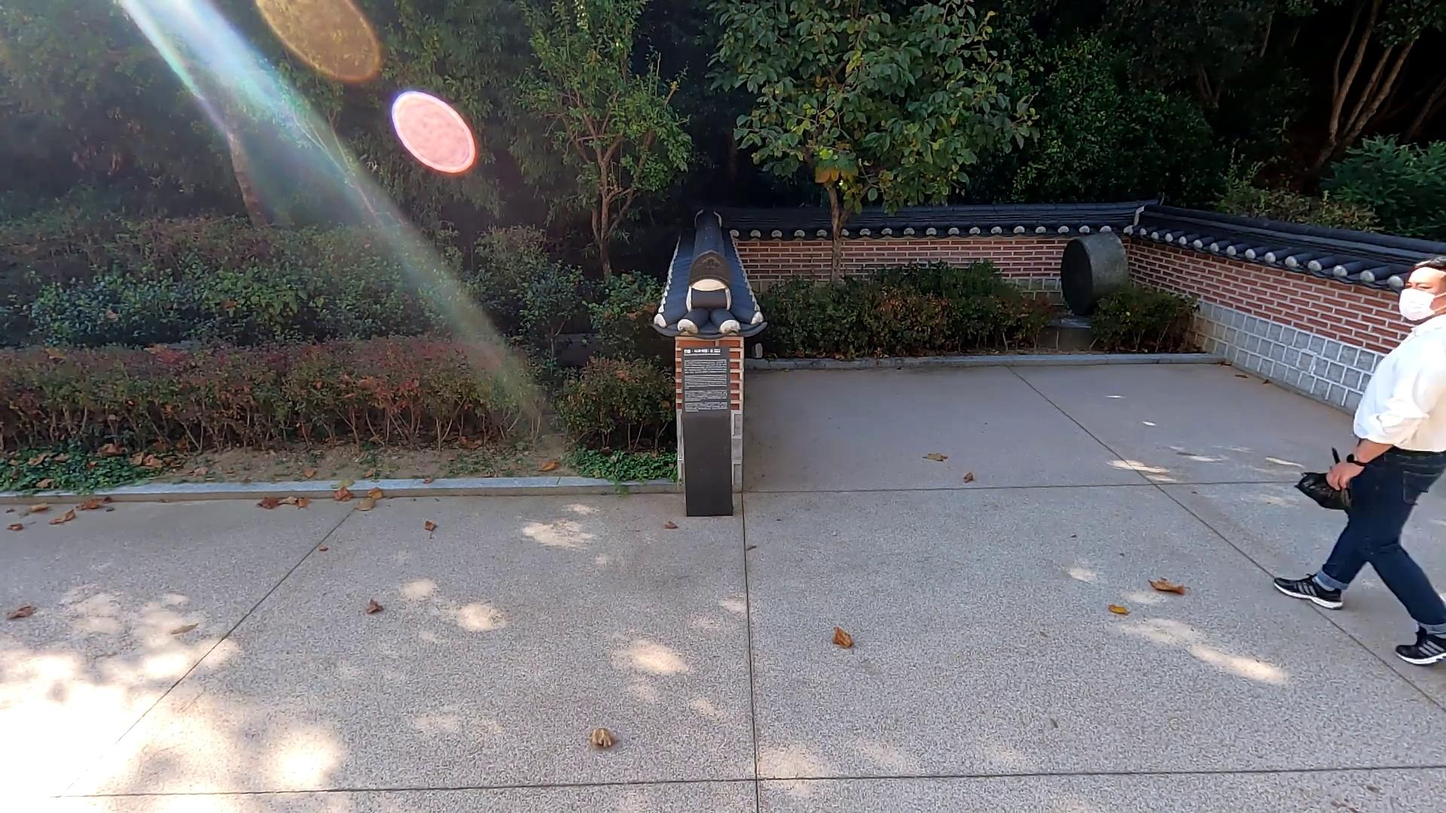person: (1274, 251, 1446, 678)
trash: (1290, 444, 1359, 521)
